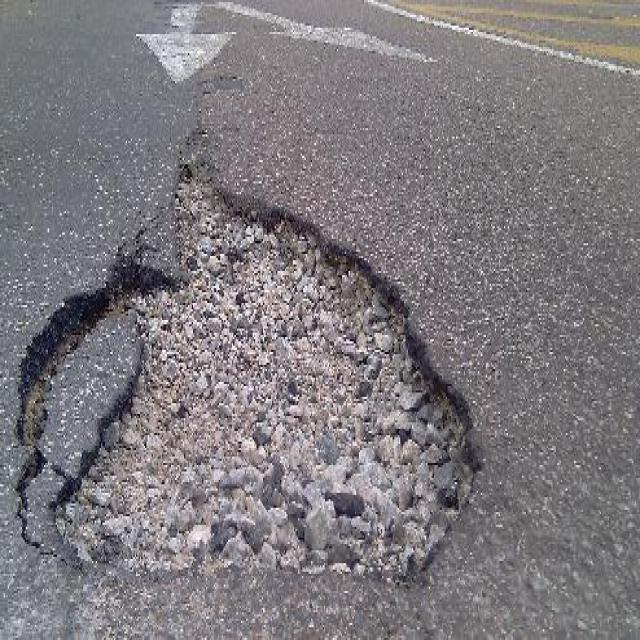pothole: (4, 150, 493, 598), (13, 139, 488, 587)
